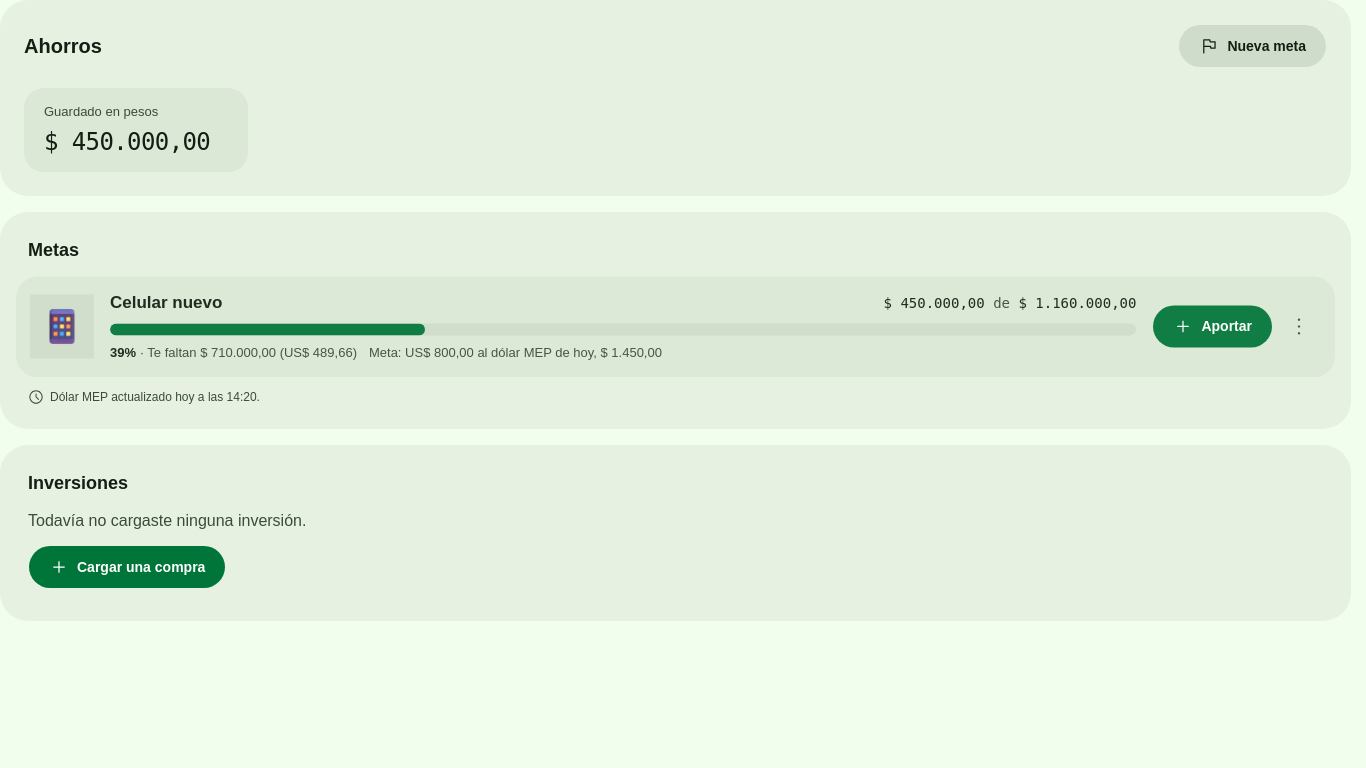
SavingsPage › puts money in, with its dollar equivalent and how the goal ends up
The width and height of the screenshot is (1366, 768).
expect the list item "Celular nuevo" shows "39%": met, box [16,276,1335,377]
Click the button "Aportar" at (1213, 326), box [1152,304,1273,348]
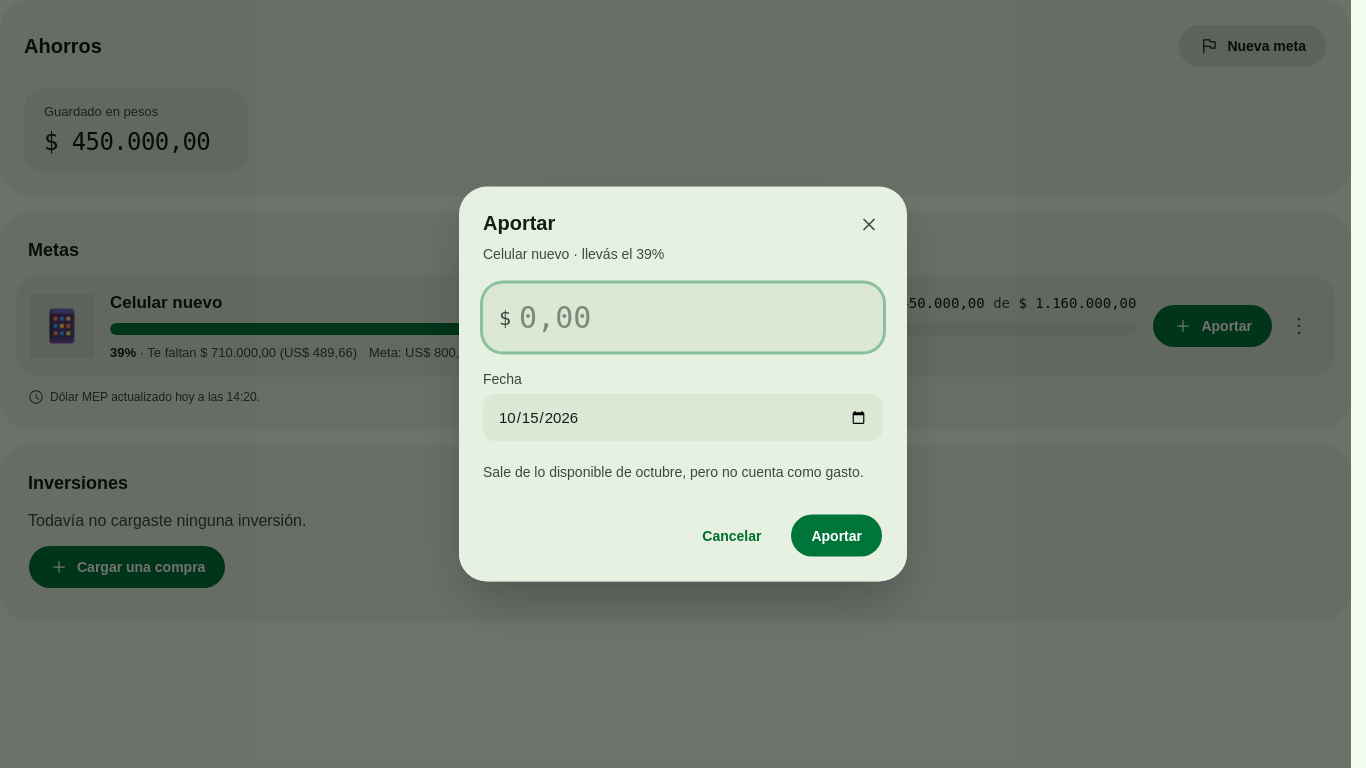
Type "80.000" into the field named "Monto" at (697, 318), box [519,292,875,344]
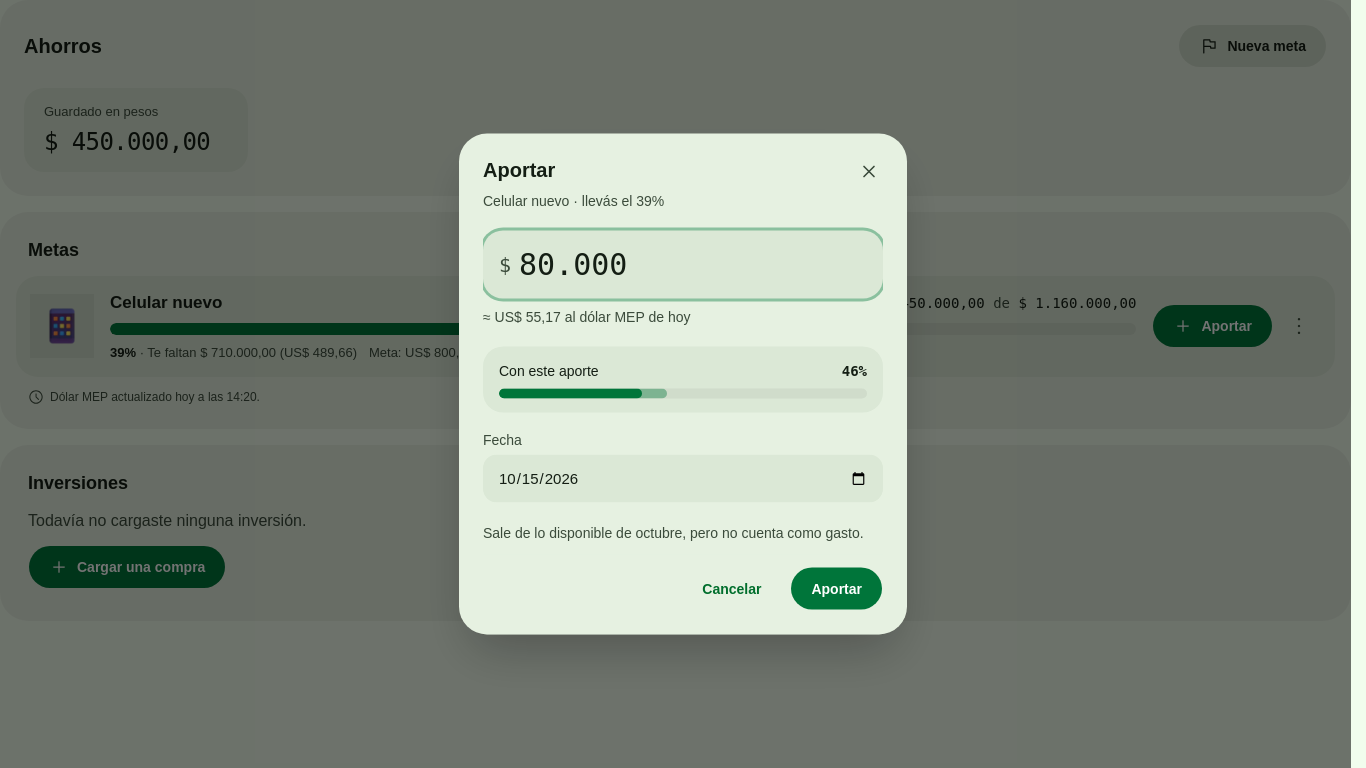
expect the dialog "Aportar" shows "Sale de lo disponible de octubre, pero no cuenta como gasto.": met, box [459,134,907,634]
expect the dialog "Aportar" shows "≈ US$ 55,17 al dólar MEP de hoy": met, box [459,134,907,634]
Click the button "Aportar" at (837, 588), box [790,566,883,610]
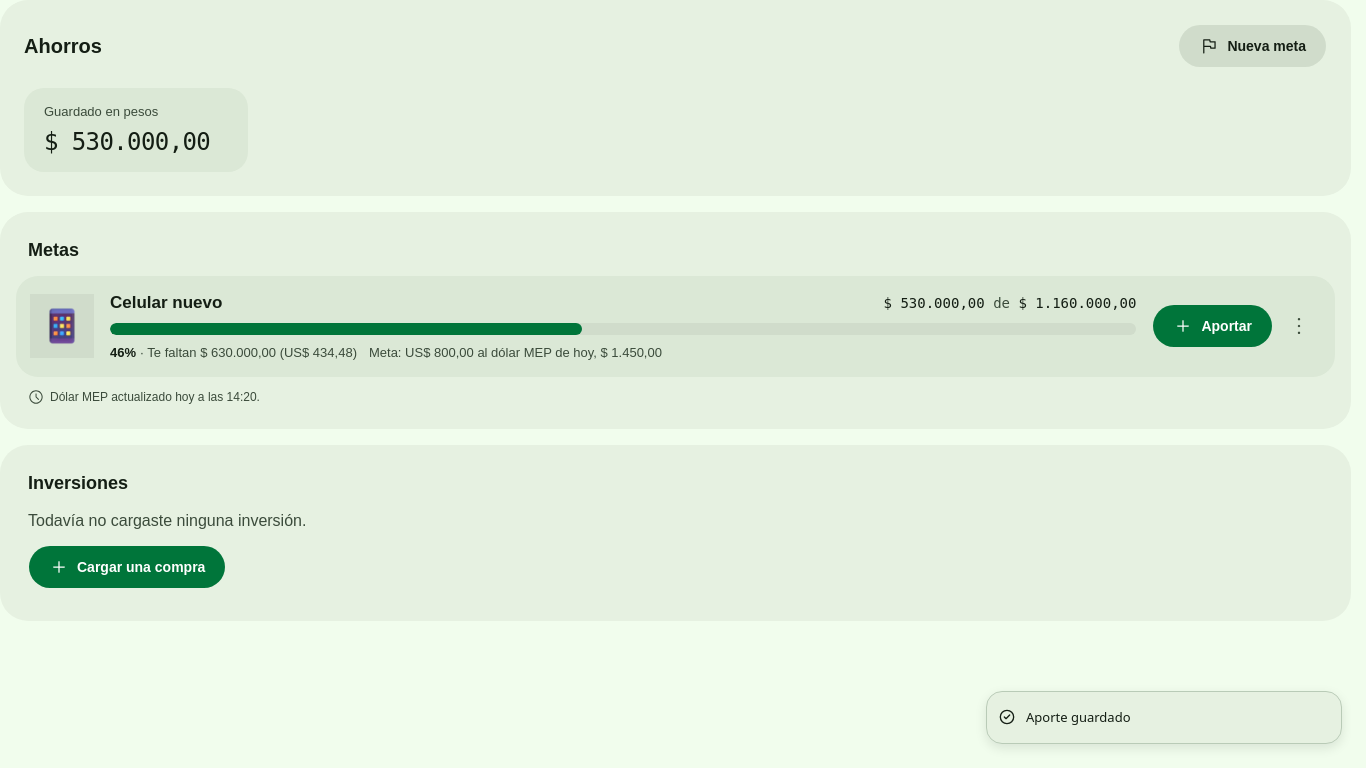
expect the list item "Celular nuevo" shows "$ 530.000,00 de $ 1.160.000,00": met, box [16,276,1335,376]
